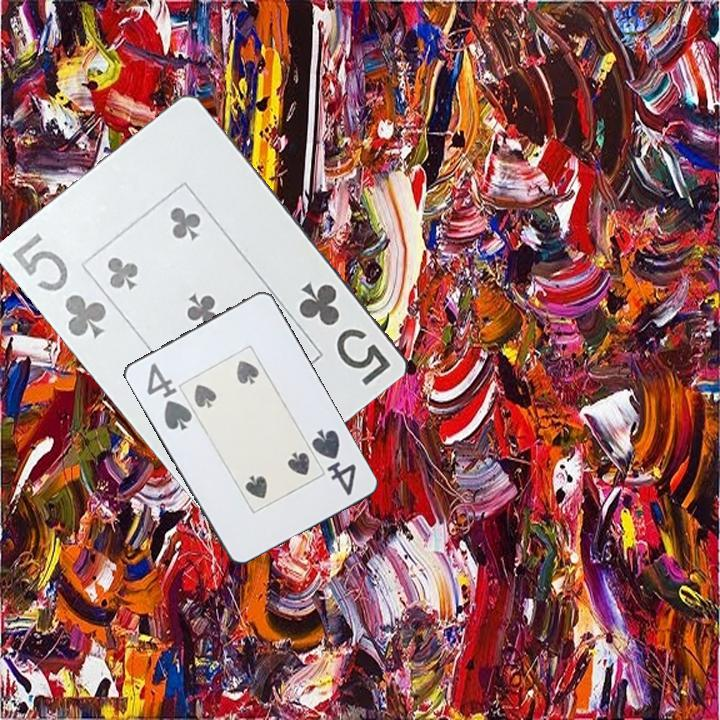4s: (307, 423, 359, 499), (143, 359, 195, 434)
5c: (9, 229, 110, 342), (295, 278, 395, 389)
